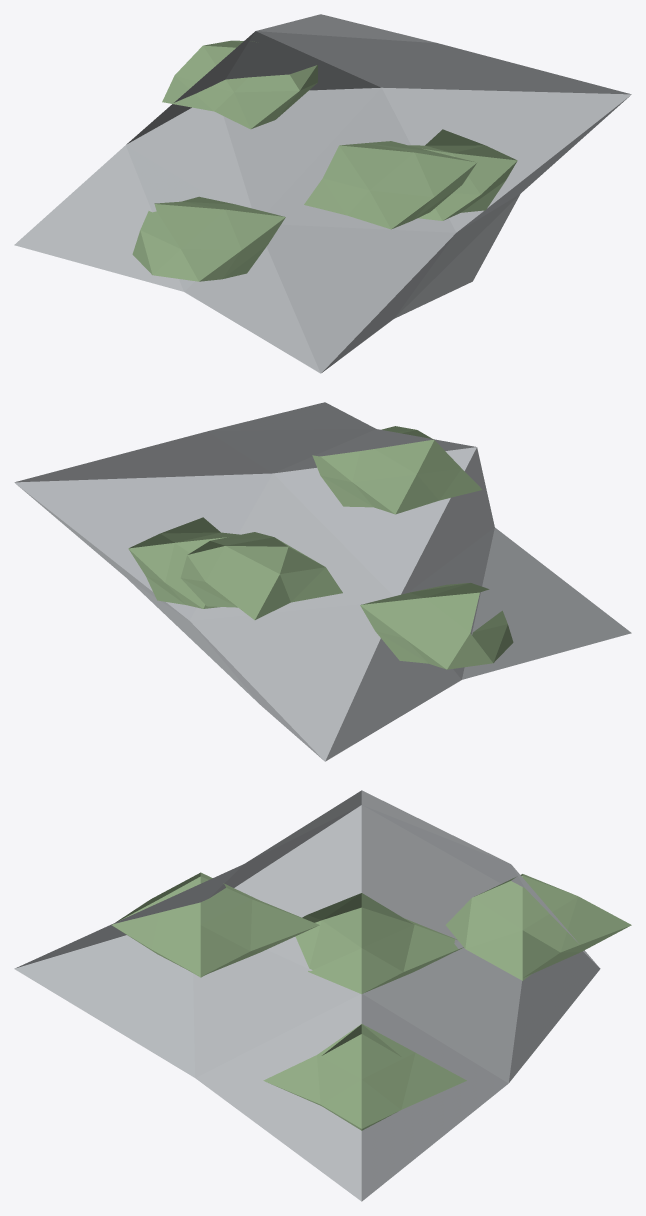
Rendered from moss_rock_v23.glb.
3 renders of one model, top to bottom at view 1: azimuth 30°, elevation 25°; view 2: azimuth 150°, elevation 25°; view 3: azimuth 270°, elevation 25°, orthographic. The views are drawn at different scales.
Visible parts, largest first — view 1: lod0; view 2: lod0; view 3: lod0.
Boxes of the visible parts, x1,y1,x2,y2 form: lod0: (14, 14, 631, 373); lod0: (14, 402, 631, 761); lod0: (14, 790, 631, 1201).
Size of what is drawn, in the model's own units: 1.65 by 0.9166 by 1.25.
